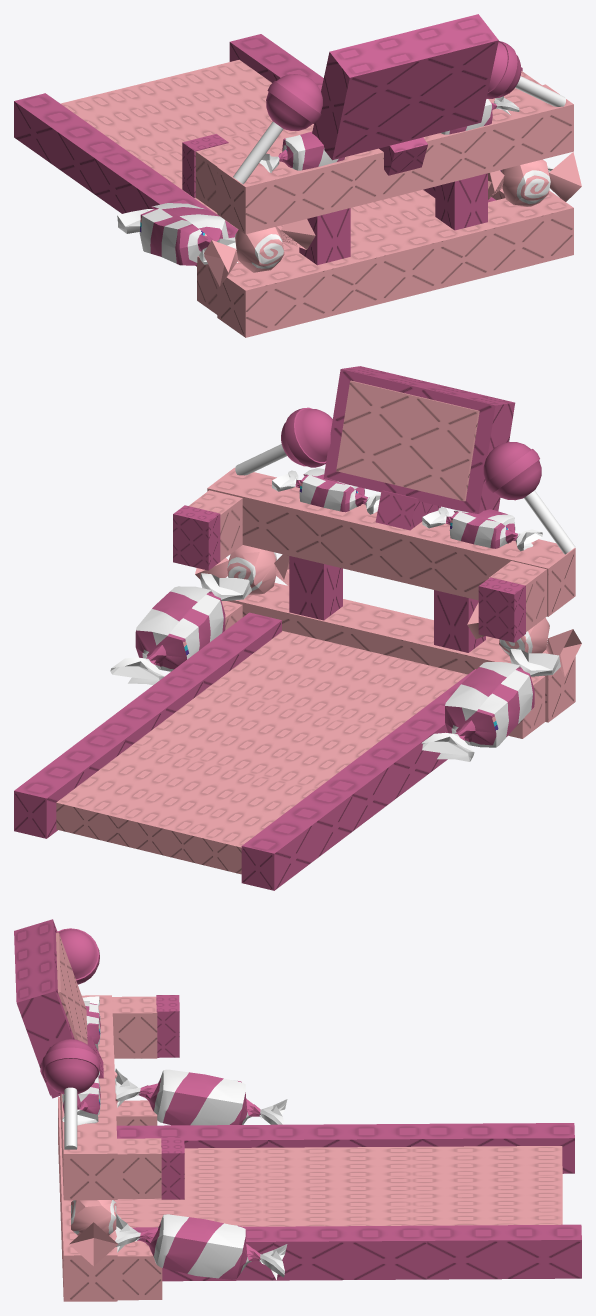
Rendered from TreadmillCandy.fbx.
3 renders of one model, top to bottom at view 1: azimuth 30°, elevation 25°; view 2: azimuth 150°, elevation 25°; view 3: azimuth 270°, elevation 25°, orthographic. The views are drawn at different scales.
Visible parts, largest first — view 1: TreadmillCandy; view 2: TreadmillCandy; view 3: TreadmillCandy.
Boxes of the visible parts, x1,y1,x2,y2 form: TreadmillCandy: [14, 14, 581, 337]; TreadmillCandy: [14, 366, 581, 890]; TreadmillCandy: [14, 919, 581, 1301].
Bounding box in the file's own units: 2429 × 1722 × 3370.
